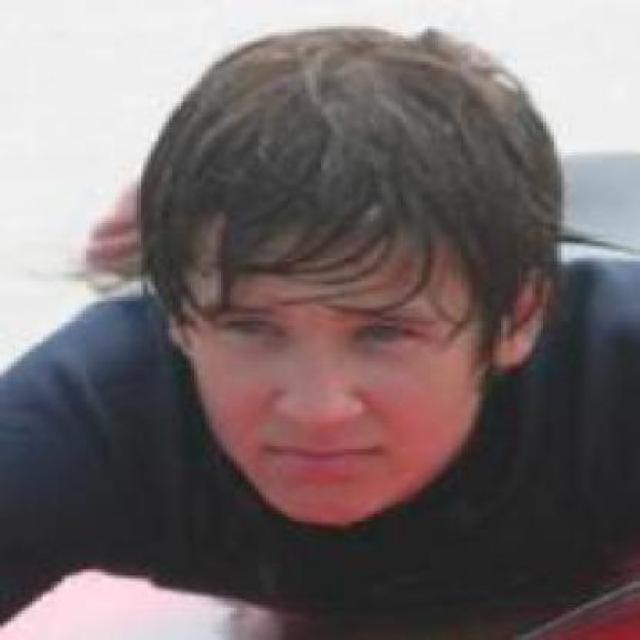closed-mouth: (270, 438, 388, 467)
